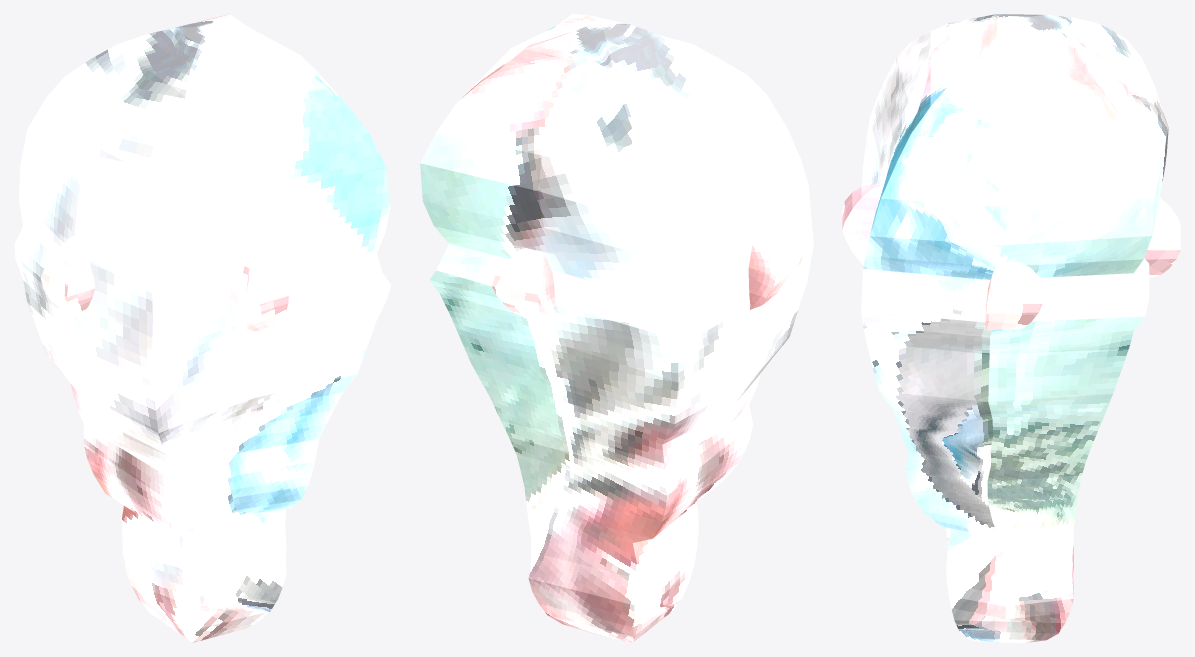
The model's file is metamorphosis_v2_txt.glb.
The picture shows the model from 3 angles, left to right: view 1: azimuth 30°, elevation 25°; view 2: azimuth 150°, elevation 25°; view 3: azimuth 270°, elevation 25°; orthographic projection. The views are drawn at different scales.
Parts seen in each view (by area): view 1: metamorphosis_v2; view 2: metamorphosis_v2; view 3: metamorphosis_v2.
Part boxes in pixels (left/top/right/bottom): metamorphosis_v2: left=14, top=14, right=391, bottom=642; metamorphosis_v2: left=420, top=14, right=813, bottom=642; metamorphosis_v2: left=842, top=14, right=1180, bottom=642.
Bounding box in the file's own units: 1.43 × 2.69 × 1.32.
